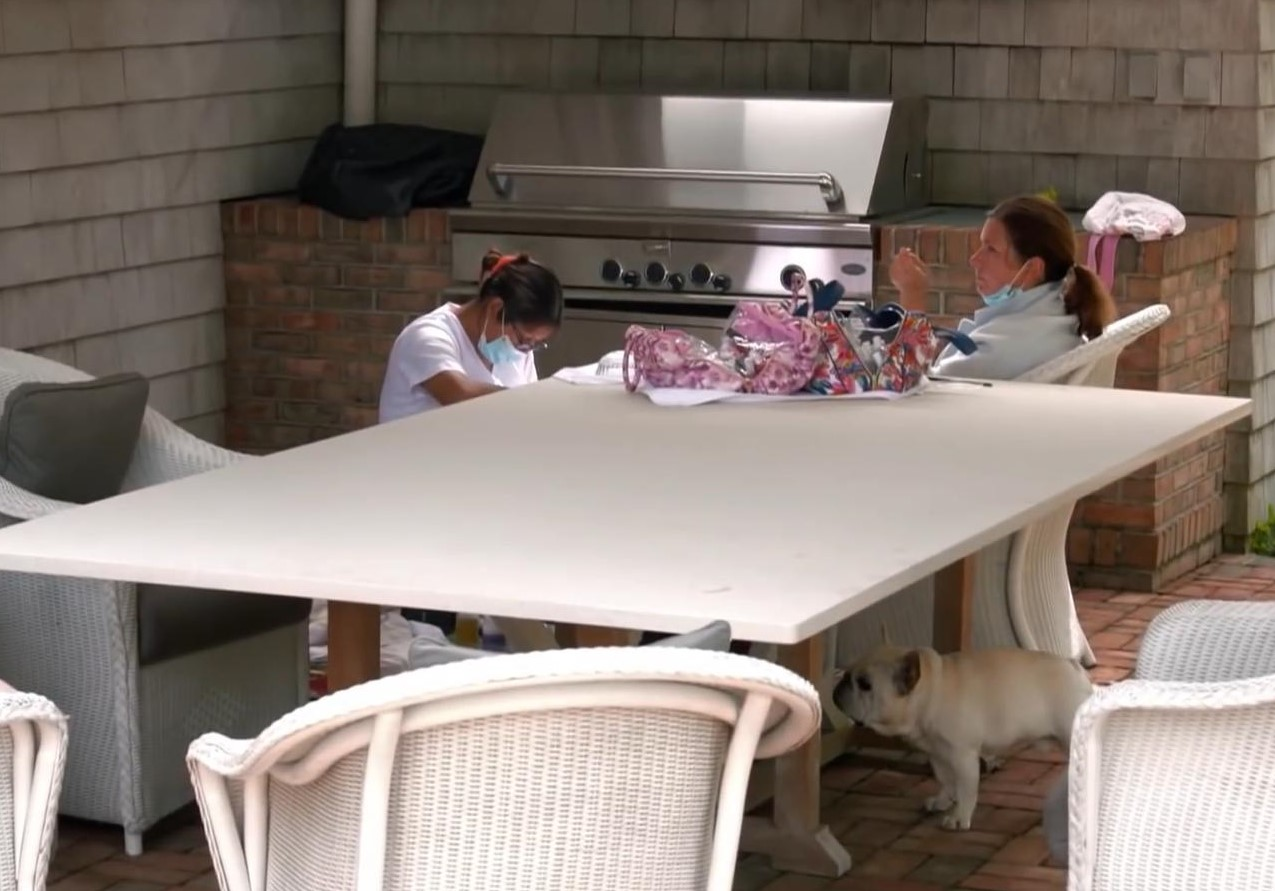with_incorrect_mask: (979, 241, 1021, 304)
with_mask: (486, 322, 539, 359)
